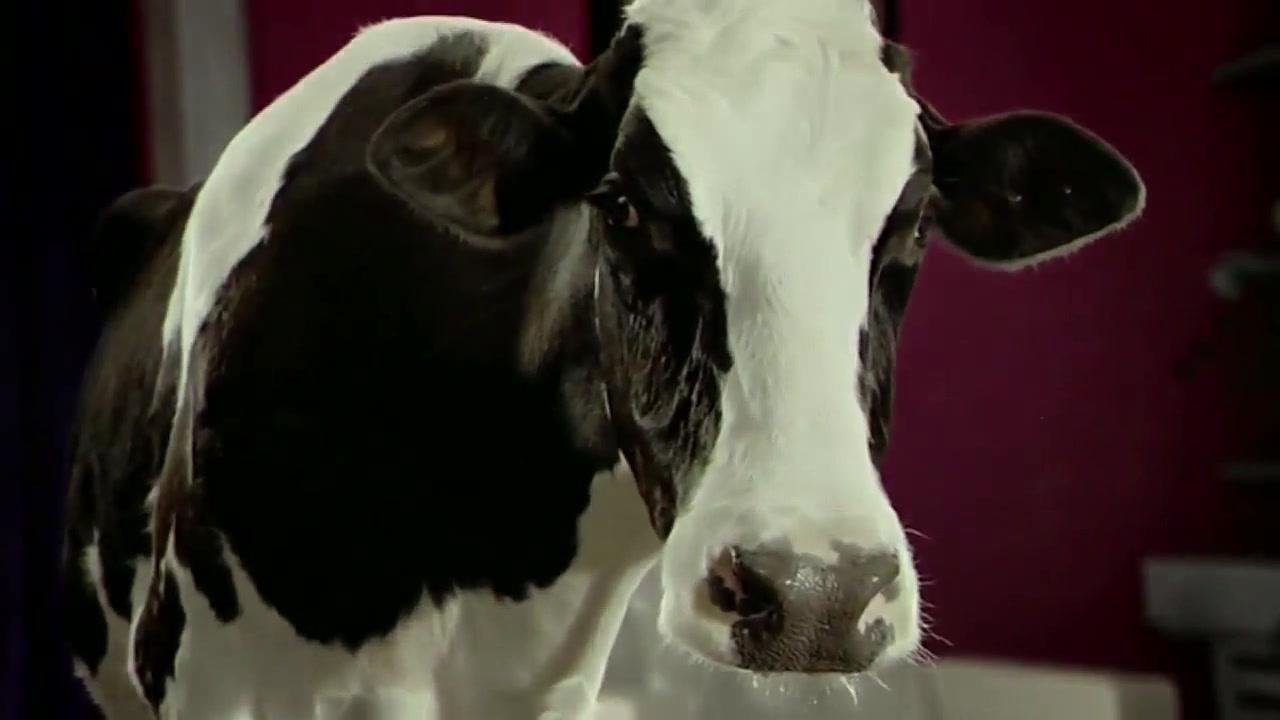cow: (1, 2, 1154, 720)
